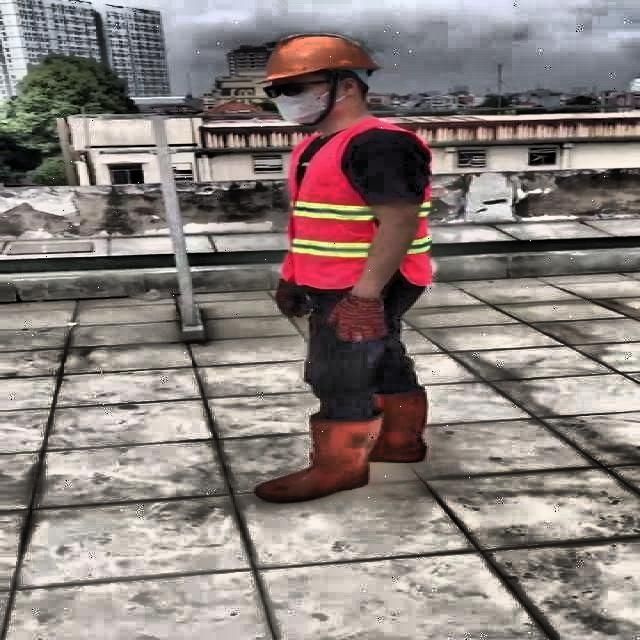safety_helmet: (263, 34, 381, 80)
safety_jacket: (281, 125, 441, 286)
